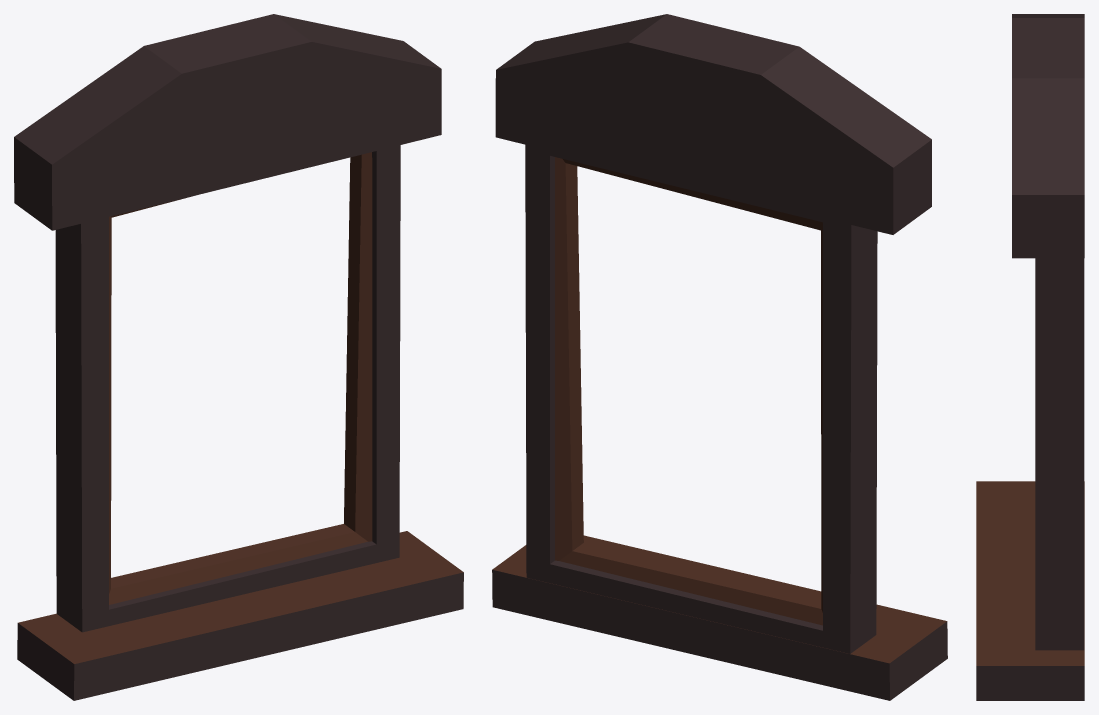
Rendered from Window 1x2 V4 Frame.glb.
3 renders of one model, left to right at view 1: azimuth 30°, elevation 25°; view 2: azimuth 150°, elevation 25°; view 3: azimuth 270°, elevation 25°, orthographic. The views are drawn at different scales.
Visible parts, largest first — view 1: Window 1x2 V4 Frame; view 2: Window 1x2 V4 Frame; view 3: Window 1x2 V4 Frame.
Boxes of the visible parts, left/top/right/bottom form: Window 1x2 V4 Frame: left=14, top=14, right=463, bottom=700; Window 1x2 V4 Frame: left=492, top=14, right=947, bottom=700; Window 1x2 V4 Frame: left=976, top=14, right=1084, bottom=700.
Size of the model in its own units: 1.42 by 2.02 by 0.3537.
1 material, 1 textured.
